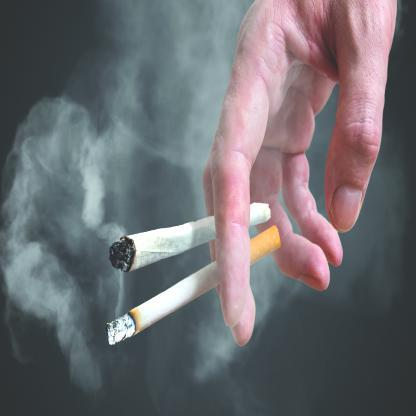cigarette: (107, 222, 282, 344), (107, 200, 274, 271)
smoke: (0, 94, 113, 355), (116, 0, 229, 158)
